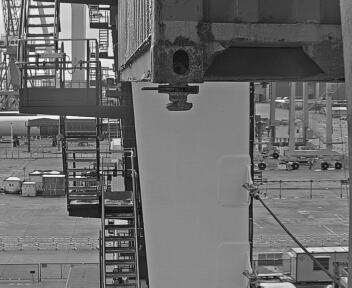twist_lock_1: (150, 73, 205, 123)
